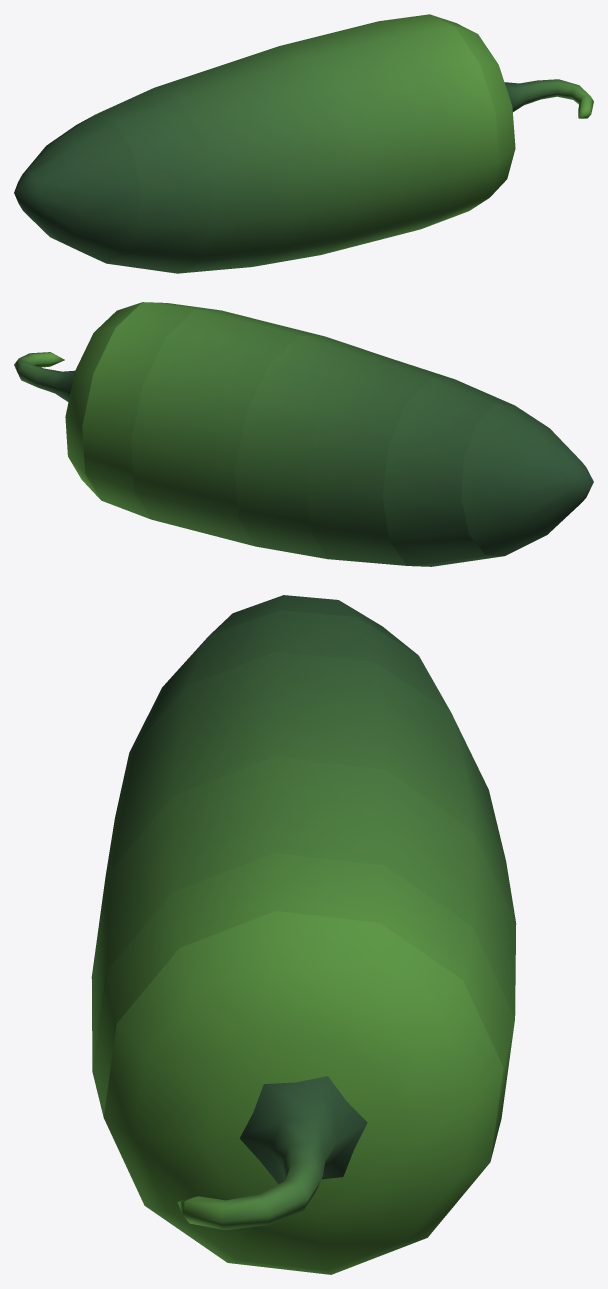
Rendered from GreenPaper.fbx.
The picture shows the model from 3 angles, top to bottom: view 1: azimuth 30°, elevation 25°; view 2: azimuth 150°, elevation 25°; view 3: azimuth 270°, elevation 25°; orthographic projection. The views are drawn at different scales.
Parts seen in each view (by area): view 1: GreenPaper, ♦5, jalapenoPepper_gradientMapVeg_001; view 2: GreenPaper, ♦5, jalapenoPepper_gradientMapVeg_001; view 3: GreenPaper, ♦5, jalapenoPepper_gradientMapVeg_001.
Part boxes in pixels (box(x1,y1,x2,y2)): GreenPaper: box(14, 14, 593, 273); ♦5: box(154, 67, 284, 273); jalapenoPepper_gradientMapVeg_001: box(279, 35, 396, 254); GreenPaper: box(14, 302, 593, 566); ♦5: box(306, 357, 454, 565); jalapenoPepper_gradientMapVeg_001: box(189, 324, 324, 546); GreenPaper: box(92, 595, 515, 1274); ♦5: box(115, 651, 505, 860); jalapenoPepper_gradientMapVeg_001: box(91, 757, 516, 1017).
Bounding box in the file's own units: 8.05 × 2.64 × 2.63.
